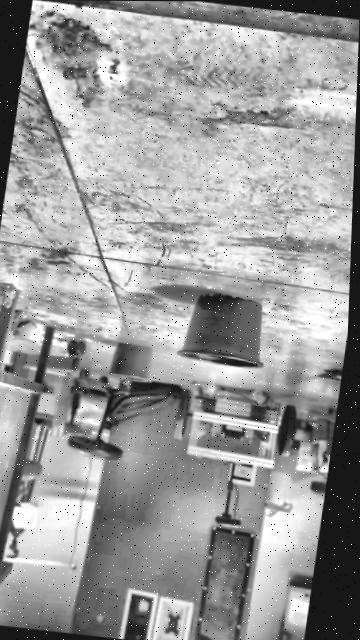pot: (175, 292, 271, 371), (107, 342, 153, 381)
